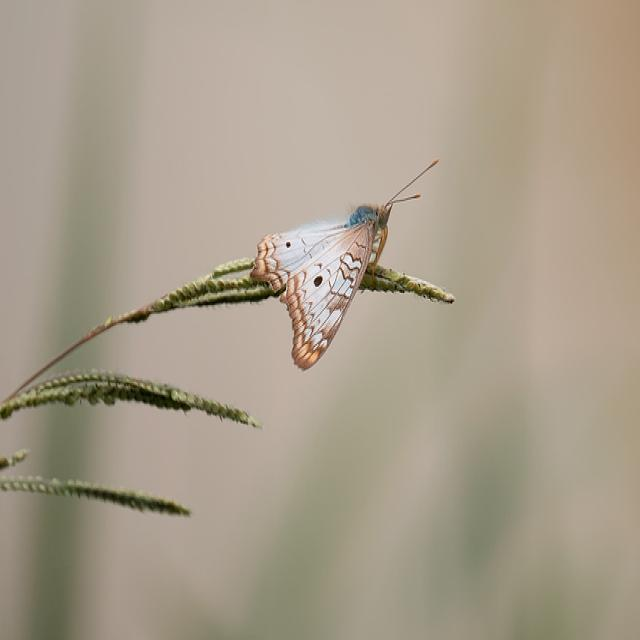butterfly: (249, 200, 398, 371)
